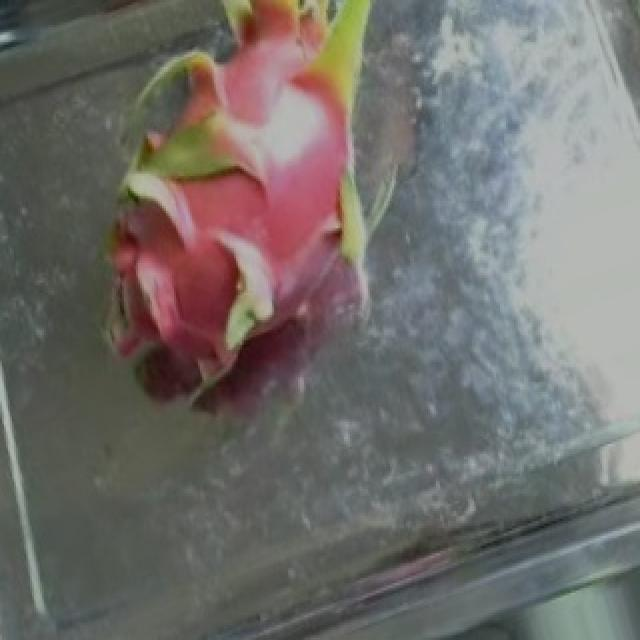fruit: (14, 0, 462, 422)
